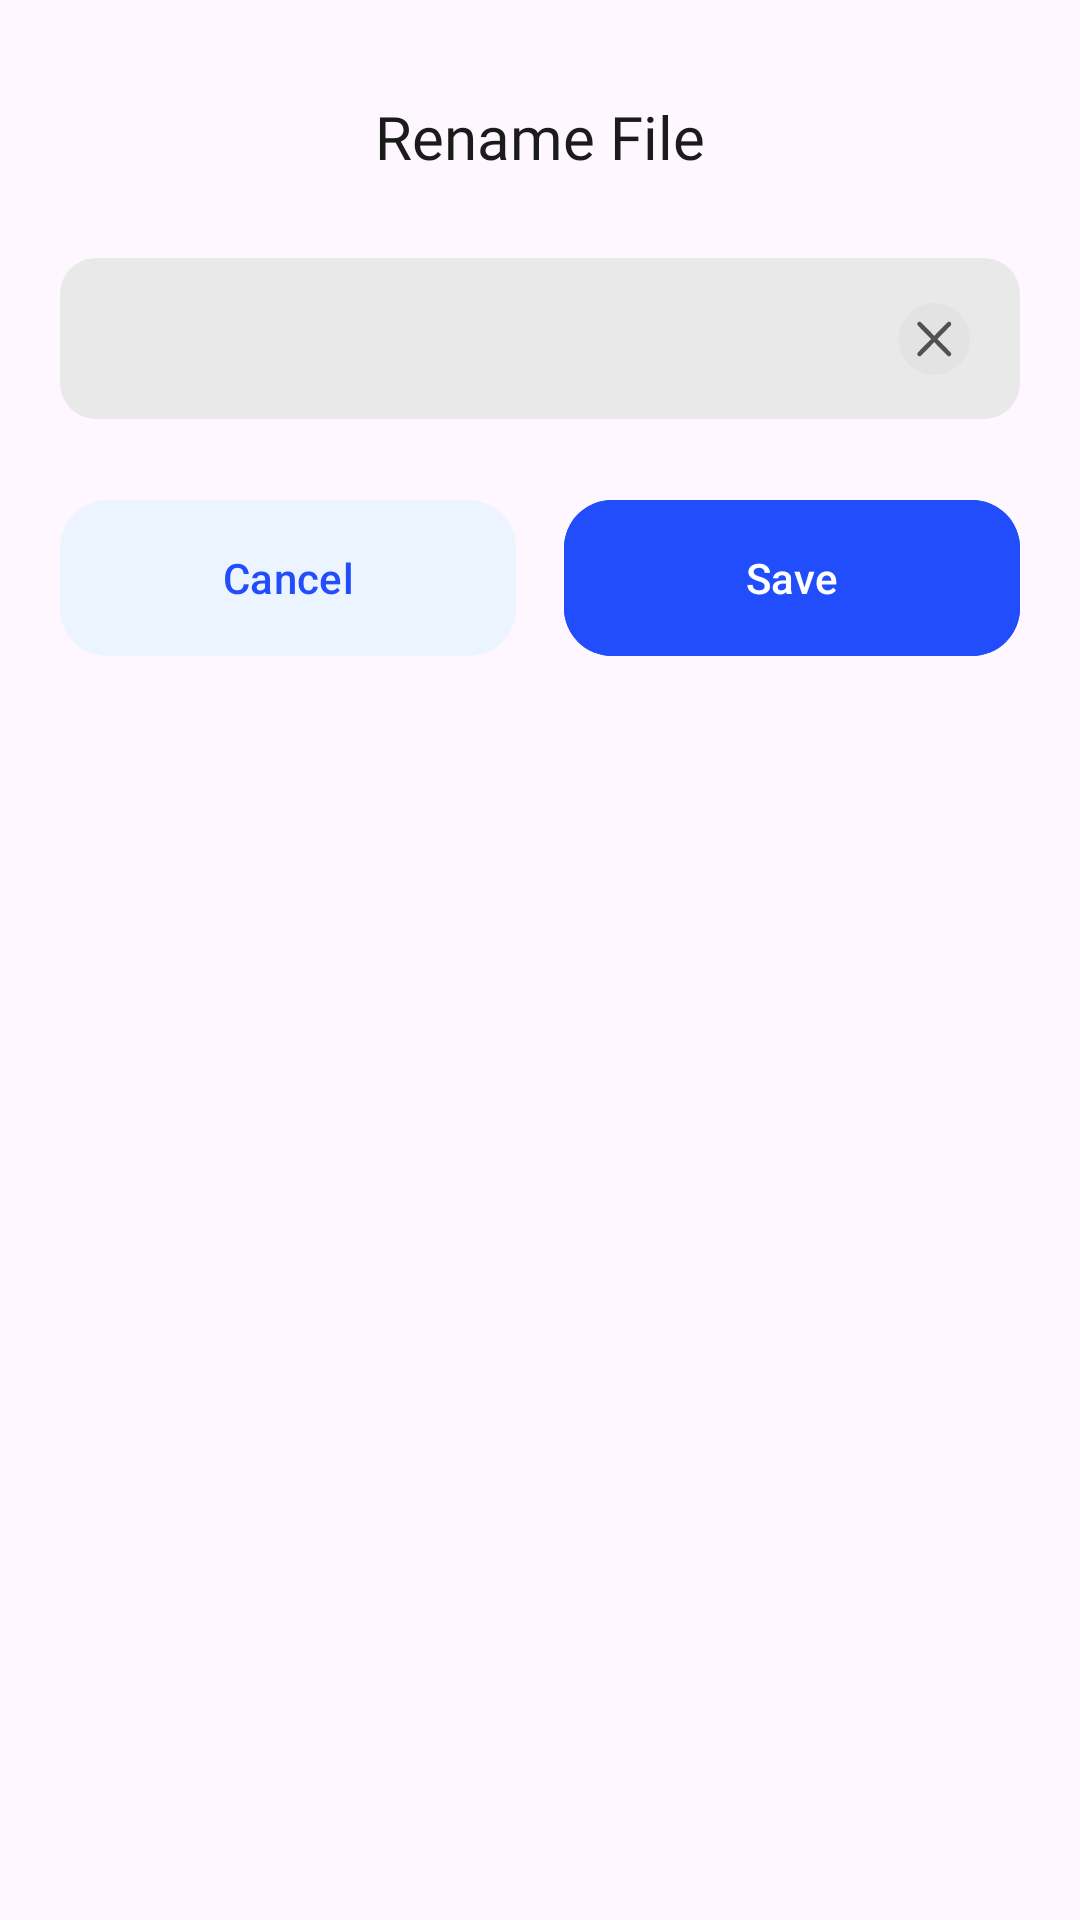

Where to tap for icons on this 1080w x 1920h app screen, as [x,y]:
close sheet: [934,339]
